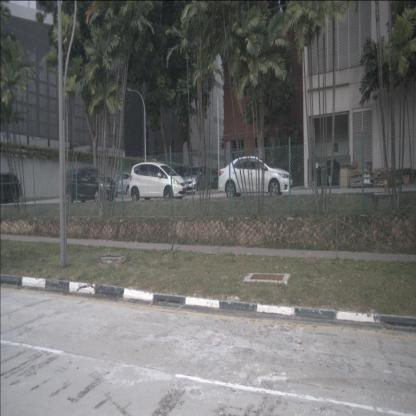vehicle-car: (218, 156, 293, 198), (129, 162, 187, 202), (63, 167, 116, 203), (181, 166, 210, 194), (107, 172, 138, 196), (0, 172, 23, 204), (164, 166, 192, 192)
